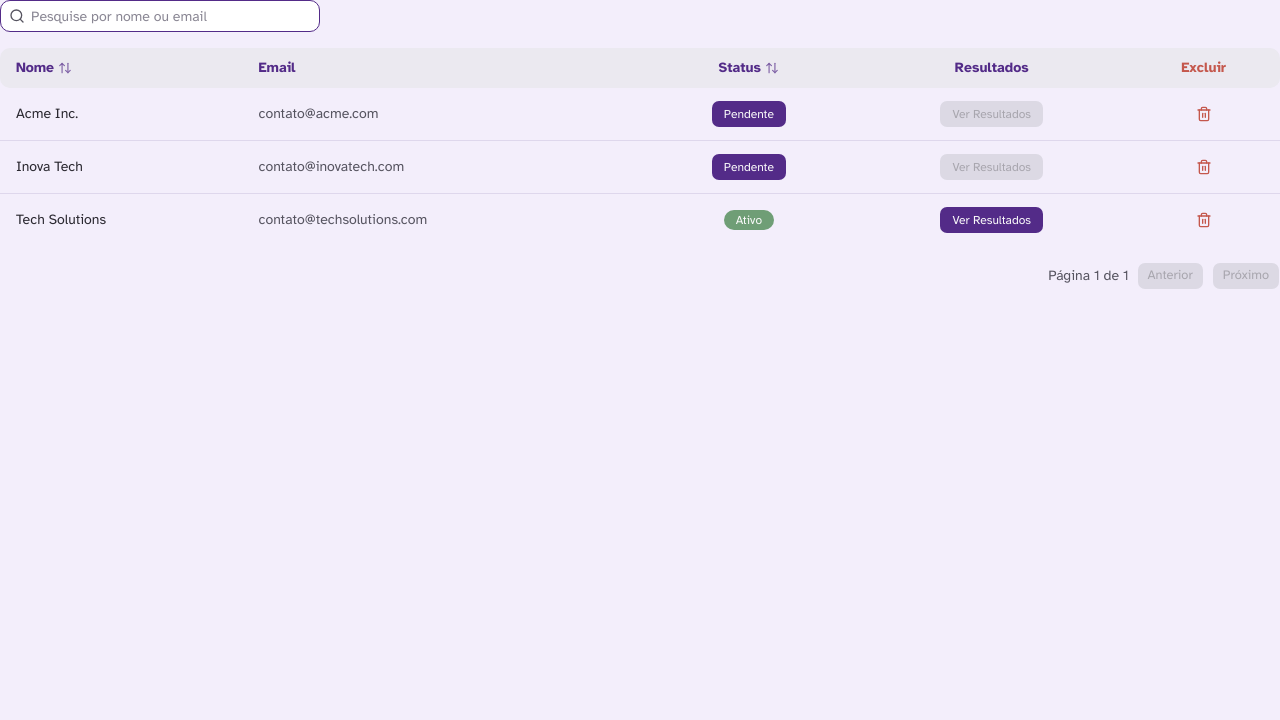
Test: CompanyTable › a confirmação de exclusão diz que não dá para desfazer
Click the button named "Excluir Tech Solutions" at (1204, 220), box [1188, 204, 1220, 236]
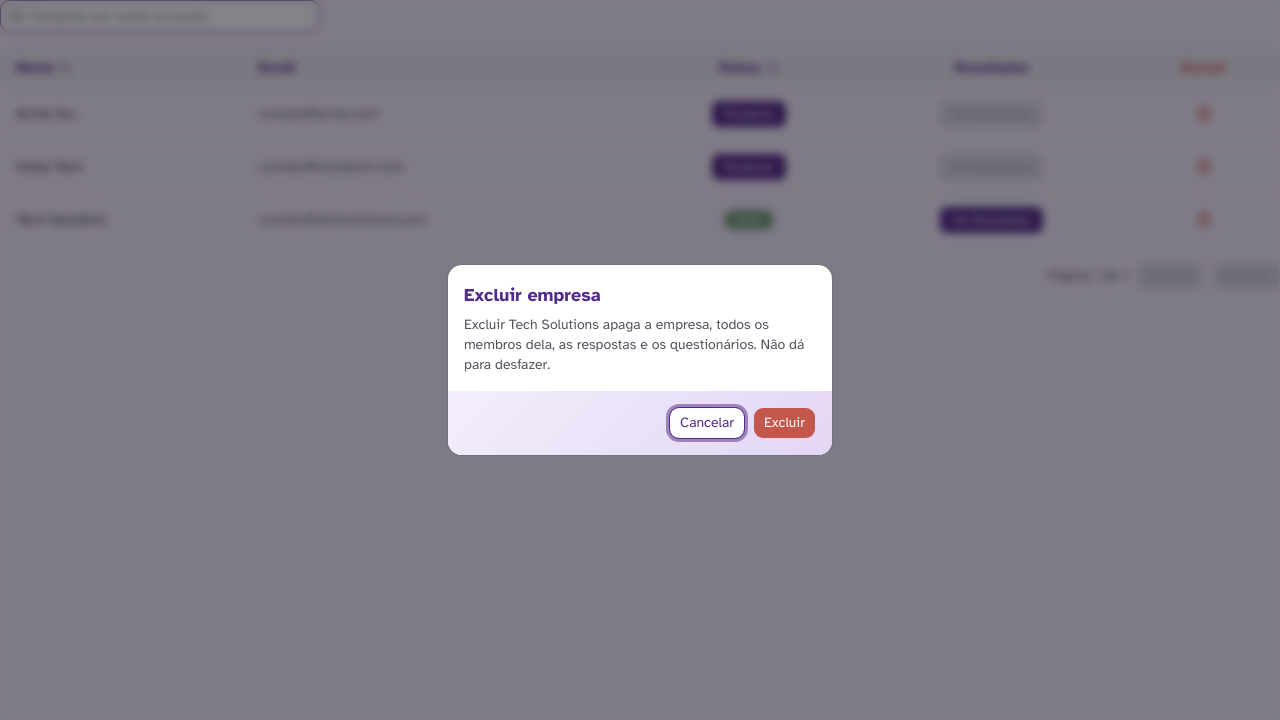
Result: the text "Excluir Tech Solutions apaga a empresa, todos os membros dela, as respostas e os questionários. Não dá para desfazer." is shown at [464, 316, 804, 373]
